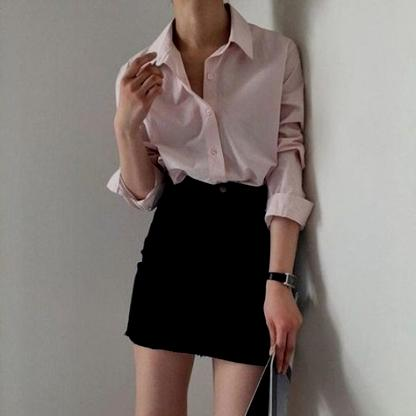dress: (110, 0, 325, 238)
jacket: (125, 178, 298, 359)
